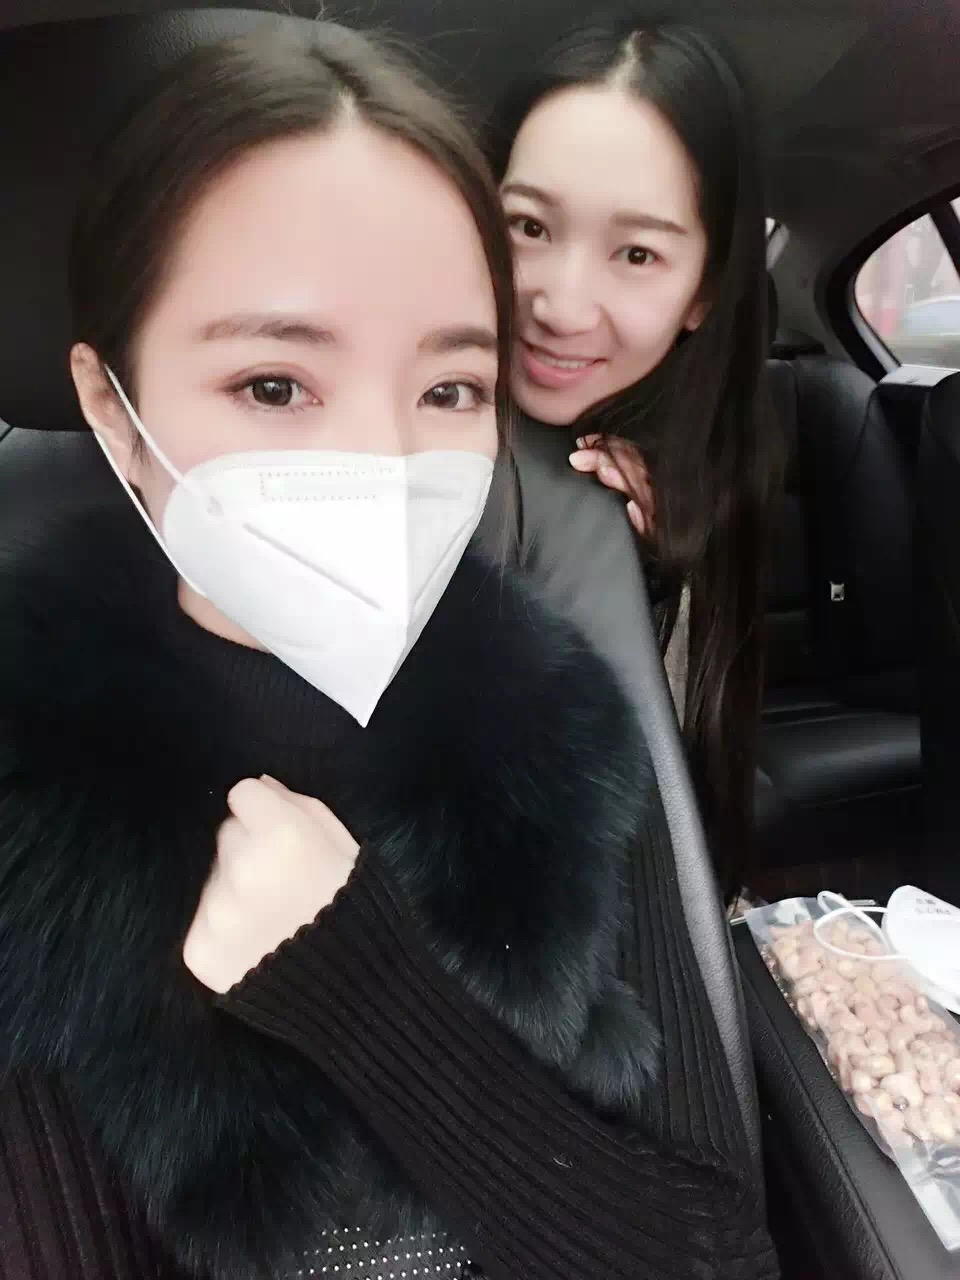face: (487, 87, 699, 429)
face_mask: (142, 140, 500, 748)
